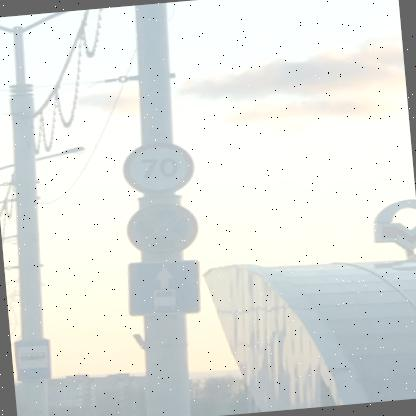speedlimit: (119, 138, 195, 197)
